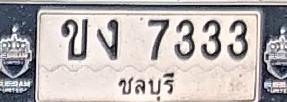3: (174, 18, 195, 59), (227, 19, 248, 60), (201, 18, 221, 59)
7: (147, 18, 169, 60)
A02: (60, 18, 88, 60)
A07: (96, 18, 118, 59)
CBI: (113, 69, 180, 102)
